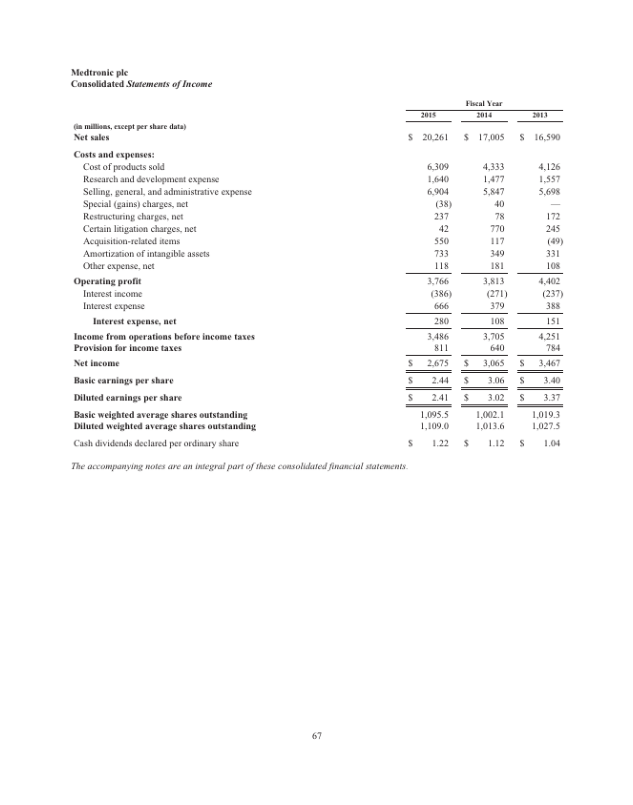table: (396, 96, 567, 454)
